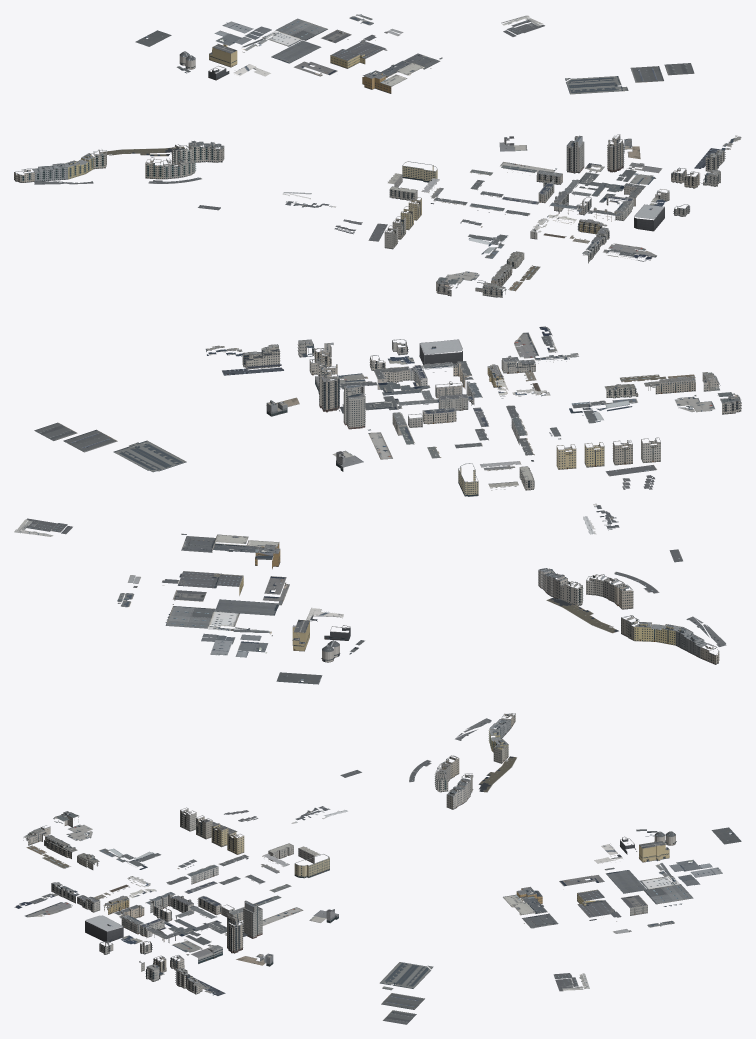
File: district-near-0.glb
The picture shows the model from 3 angles, top to bottom: view 1: azimuth 30°, elevation 25°; view 2: azimuth 150°, elevation 25°; view 3: azimuth 270°, elevation 25°; orthographic projection. The views are drawn at different scales.
Bounding box in the file's own units: 1202 × 65.18 × 1200.
5 materials, 5 textured.
